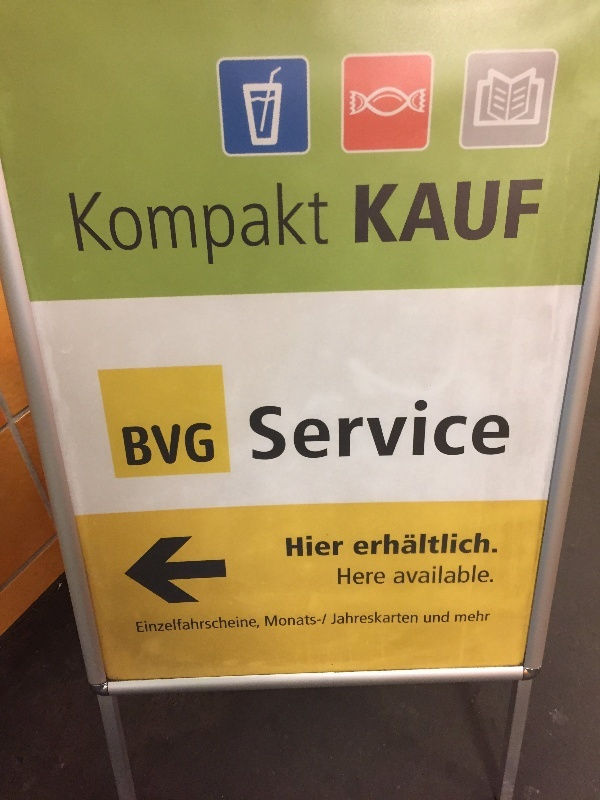text: (81, 182, 96, 272), (97, 182, 112, 272), (113, 182, 128, 272), (129, 182, 144, 272), (145, 182, 160, 272), (161, 182, 176, 272), (177, 182, 192, 272), (193, 182, 208, 272), (209, 182, 224, 272), (225, 182, 240, 272), (241, 182, 256, 272), (257, 182, 272, 272), (273, 182, 288, 272), (289, 182, 304, 272), (305, 182, 320, 272), (69, 182, 80, 272), (369, 178, 384, 244), (385, 178, 400, 244), (401, 178, 416, 244), (417, 178, 432, 244), (433, 178, 448, 244), (449, 178, 464, 244), (465, 178, 480, 244), (481, 178, 496, 244), (497, 178, 512, 244), (513, 178, 528, 244), (529, 178, 544, 244), (257, 402, 272, 461), (273, 402, 288, 461), (289, 402, 304, 461), (305, 402, 320, 461), (321, 402, 336, 461), (337, 402, 352, 461), (353, 402, 368, 461), (369, 402, 384, 461), (385, 402, 400, 461), (401, 402, 416, 461), (417, 402, 432, 461), (433, 402, 448, 461), (449, 402, 464, 461), (465, 402, 480, 461), (481, 402, 496, 461), (497, 402, 512, 461), (356, 178, 368, 244), (321, 182, 329, 272), (129, 422, 144, 469), (145, 422, 160, 469), (161, 422, 176, 469), (177, 422, 192, 469), (193, 422, 208, 469), (249, 402, 256, 461), (369, 533, 384, 557), (385, 533, 400, 557), (401, 533, 416, 557), (417, 533, 432, 557), (433, 533, 448, 557), (449, 533, 464, 557), (465, 533, 480, 557), (481, 533, 496, 557), (354, 533, 368, 557), (289, 536, 304, 558), (305, 536, 320, 558), (321, 536, 336, 558), (401, 563, 416, 585), (417, 563, 432, 585), (433, 563, 448, 585), (449, 563, 464, 585), (465, 563, 480, 585), (209, 422, 216, 469), (481, 563, 494, 585), (369, 568, 385, 585), (145, 615, 160, 633), (161, 615, 176, 633), (177, 615, 192, 633), (193, 615, 208, 633), (209, 615, 224, 633), (225, 615, 240, 633), (241, 615, 256, 633), (353, 568, 368, 585), (338, 568, 352, 585), (123, 422, 128, 469), (273, 613, 288, 628), (289, 613, 304, 628), (305, 613, 320, 628), (337, 611, 352, 625), (353, 611, 368, 625), (369, 611, 384, 625), (385, 611, 400, 625), (401, 611, 416, 625), (465, 610, 480, 622), (433, 612, 448, 623), (337, 536, 344, 558), (136, 615, 144, 633), (394, 563, 400, 585), (481, 610, 491, 622), (265, 613, 272, 628), (456, 610, 464, 622), (321, 613, 327, 628), (425, 612, 432, 623), (286, 536, 288, 558), (257, 615, 259, 633), (334, 611, 336, 625), (497, 533, 498, 557), (417, 611, 418, 625), (449, 612, 450, 623)
